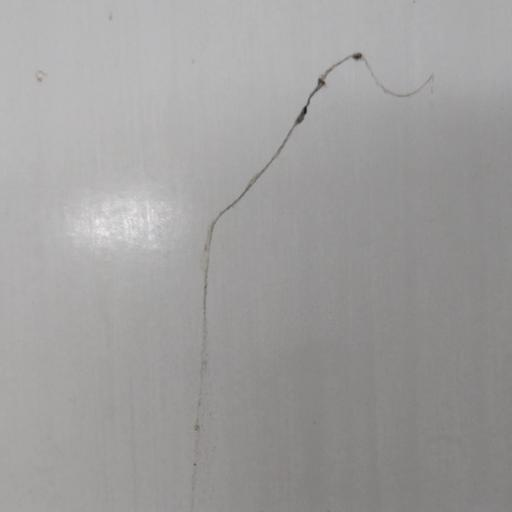minor_crack: (188, 45, 467, 512)
